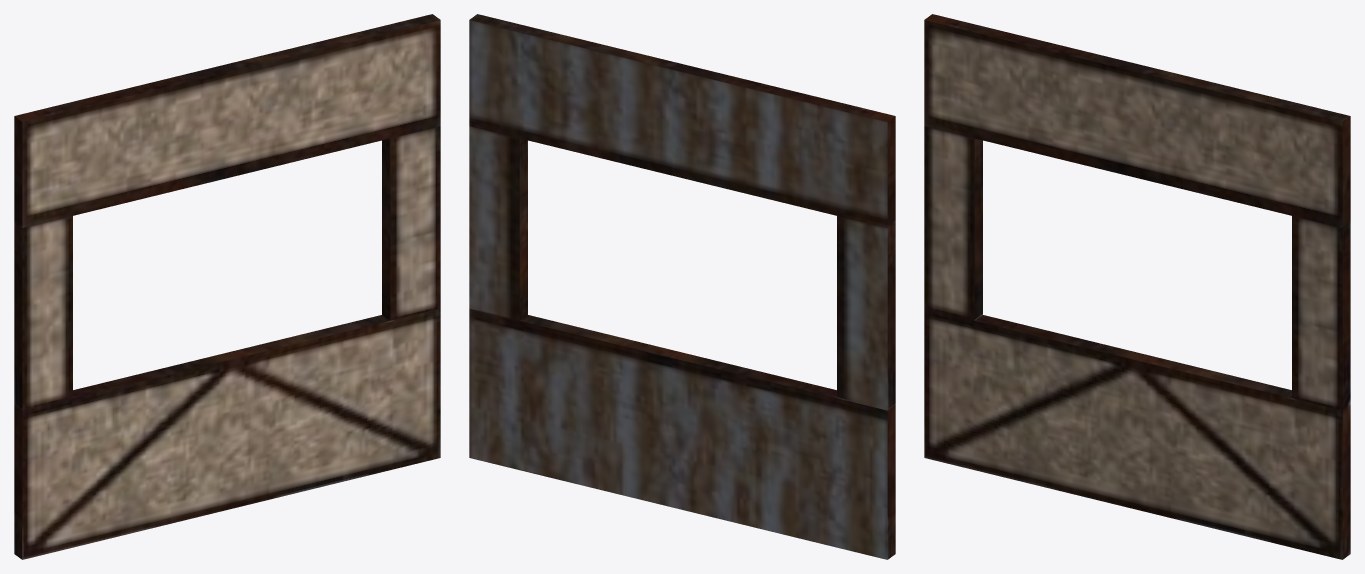
Rendered from metal_window_textured.glb.
3 renders of one model, left to right at view 1: azimuth 30°, elevation 25°; view 2: azimuth 150°, elevation 25°; view 3: azimuth 330°, elevation 25°, orthographic.
Visible parts, largest first — view 1: Cube.001; view 2: Cube.001; view 3: Cube.001.
Boxes of the visible parts, <box> form: Cube.001: <box>14,14,440,559</box>; Cube.001: <box>469,14,895,559</box>; Cube.001: <box>924,14,1350,559</box>.
Size of the model in its own units: 2 by 2 by 0.0681.
Materials: 1 (1 with a texture image).
